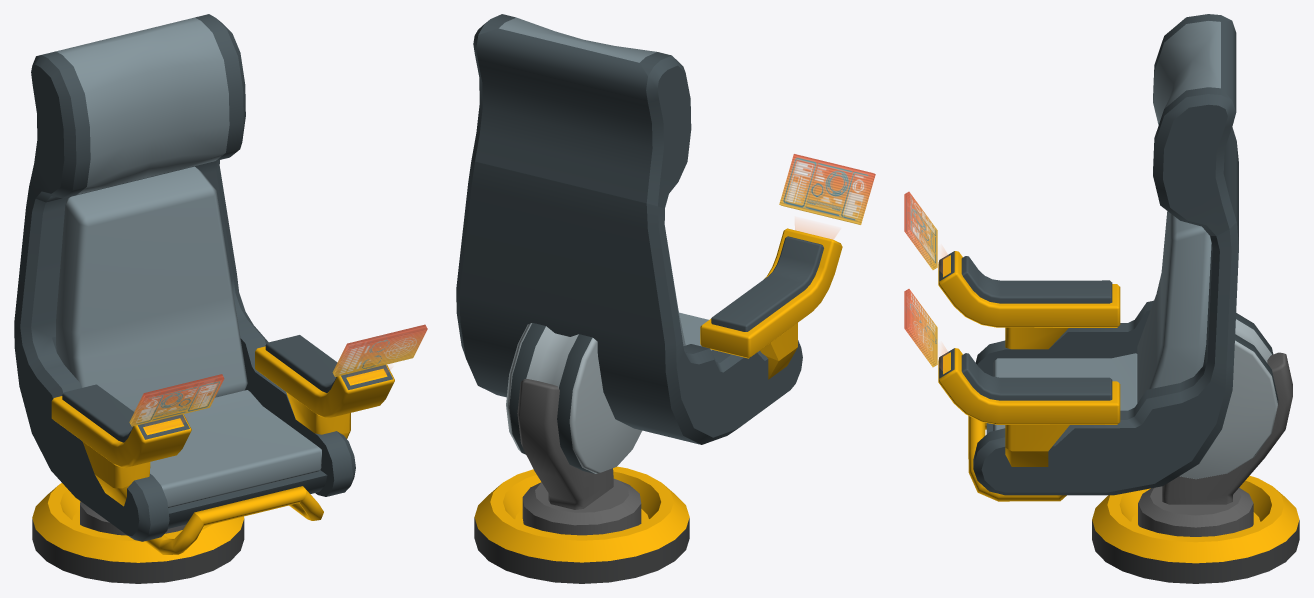
File: Armchair_014.glb
3 renders of one model, left to right at view 1: azimuth 30°, elevation 25°; view 2: azimuth 150°, elevation 25°; view 3: azimuth 270°, elevation 25°, orthographic. The views are drawn at different scales.
Visible parts, largest first — view 1: Armchair_014_body_001, Armchair_014, Armchair_014_screen_002, Armchair_014_screen_001; view 2: Armchair_014_body_001, Armchair_014, Armchair_014_screen_002; view 3: Armchair_014_body_001, Armchair_014, Armchair_014_screen_001, Armchair_014_screen_002.
Boxes of the visible parts, x1,y1,x2,y2 form: Armchair_014_body_001: [14, 14, 394, 554]; Armchair_014: [32, 483, 244, 583]; Armchair_014_screen_002: [129, 374, 224, 432]; Armchair_014_screen_001: [332, 324, 427, 383]; Armchair_014_body_001: [456, 14, 842, 473]; Armchair_014: [474, 379, 689, 583]; Armchair_014_screen_002: [779, 154, 875, 239]; Armchair_014_body_001: [938, 14, 1278, 501]; Armchair_014: [1092, 352, 1299, 583]; Armchair_014_screen_001: [904, 289, 948, 372]; Armchair_014_screen_002: [904, 191, 948, 275].
Bounding box in the file's own units: 0.8966 × 1.51 × 1.11.
4 materials, 4 textured.
